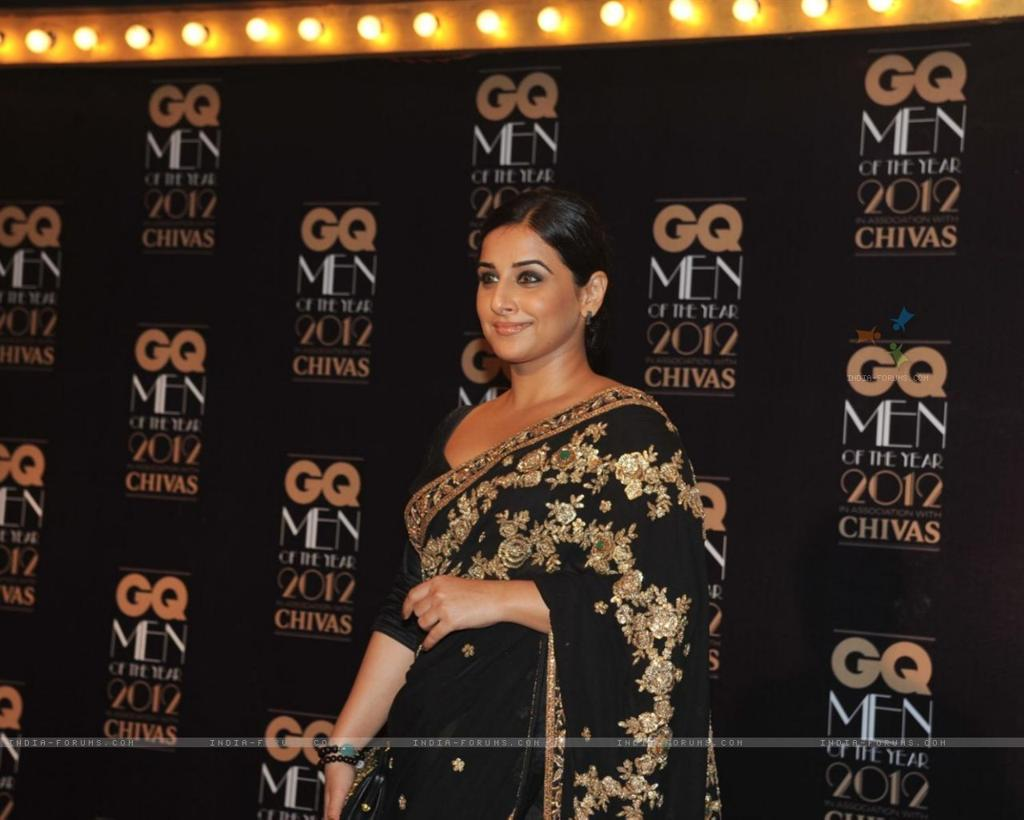face: (476, 218, 580, 360)
